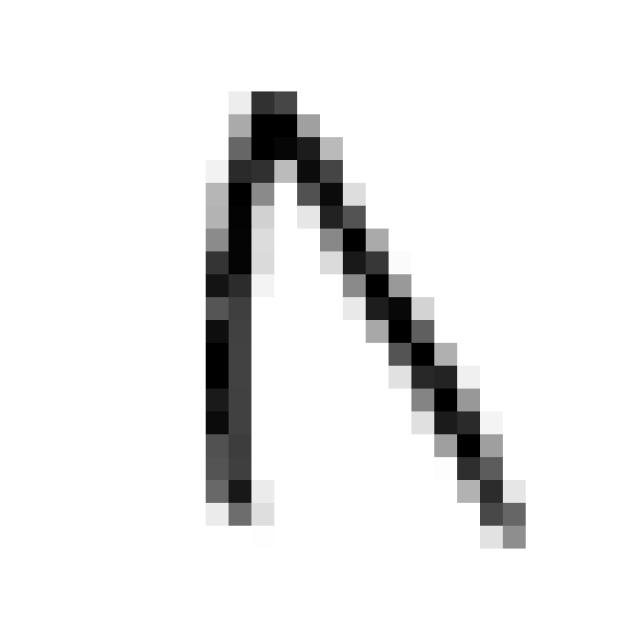8 -eight-: (174, 64, 547, 565)
